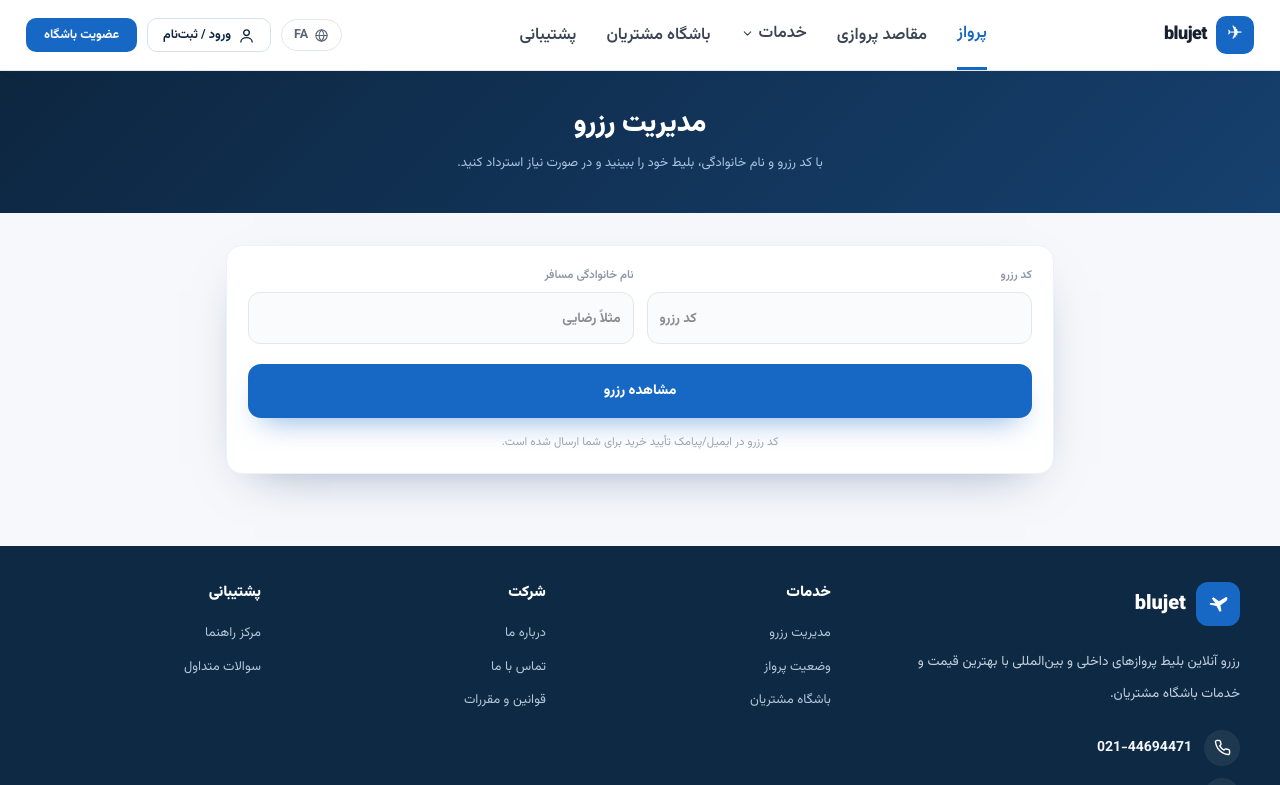
Scenario: ManageBookingPage › shows the real error message on a lookup failure (wrong PNR/last name)
Type "ZZZZZZ" into the field with test id "mb-pnr" at (839, 318), box x1=646 y1=292 x2=1032 y2=344
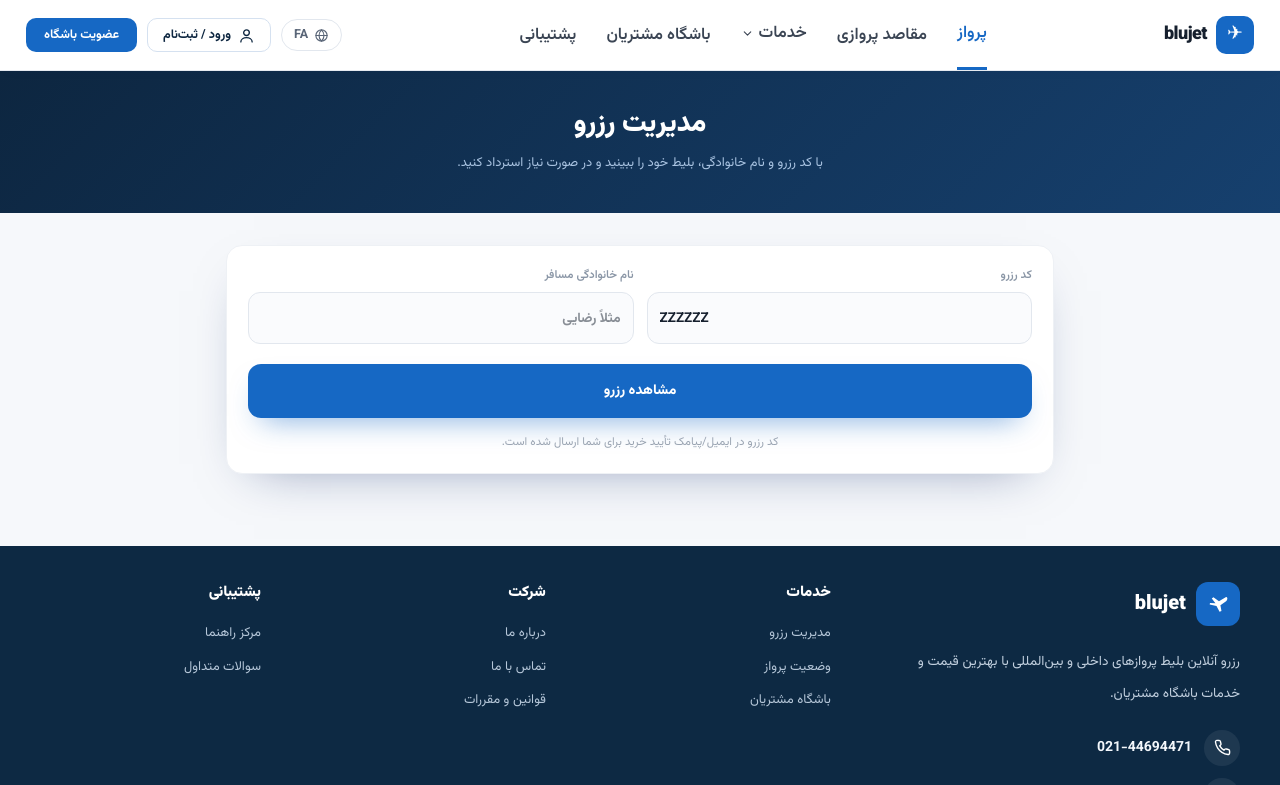
Type "ناشناس" into the field with test id "mb-lastname" at (441, 318), box x1=248 y1=292 x2=634 y2=344
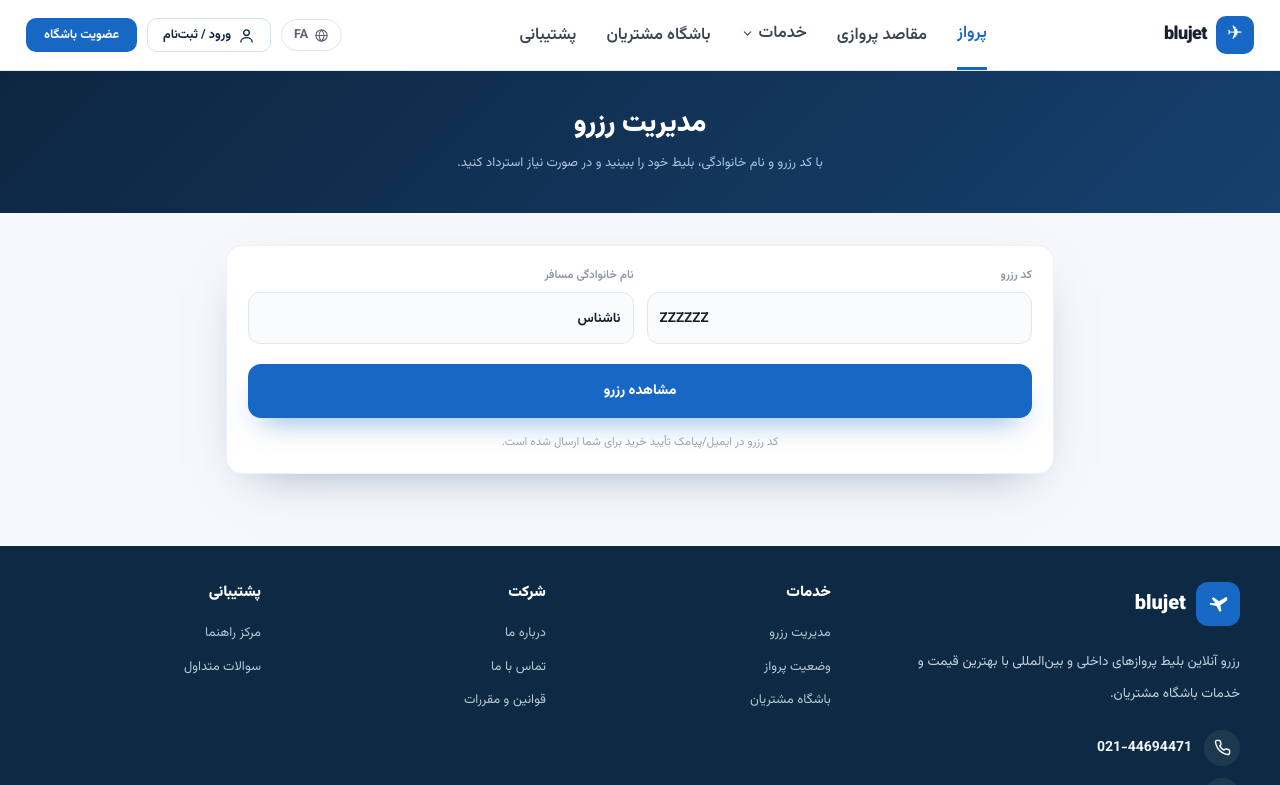
Click the button with test id "mb-lookup" at (640, 391), box x1=248 y1=364 x2=1032 y2=418
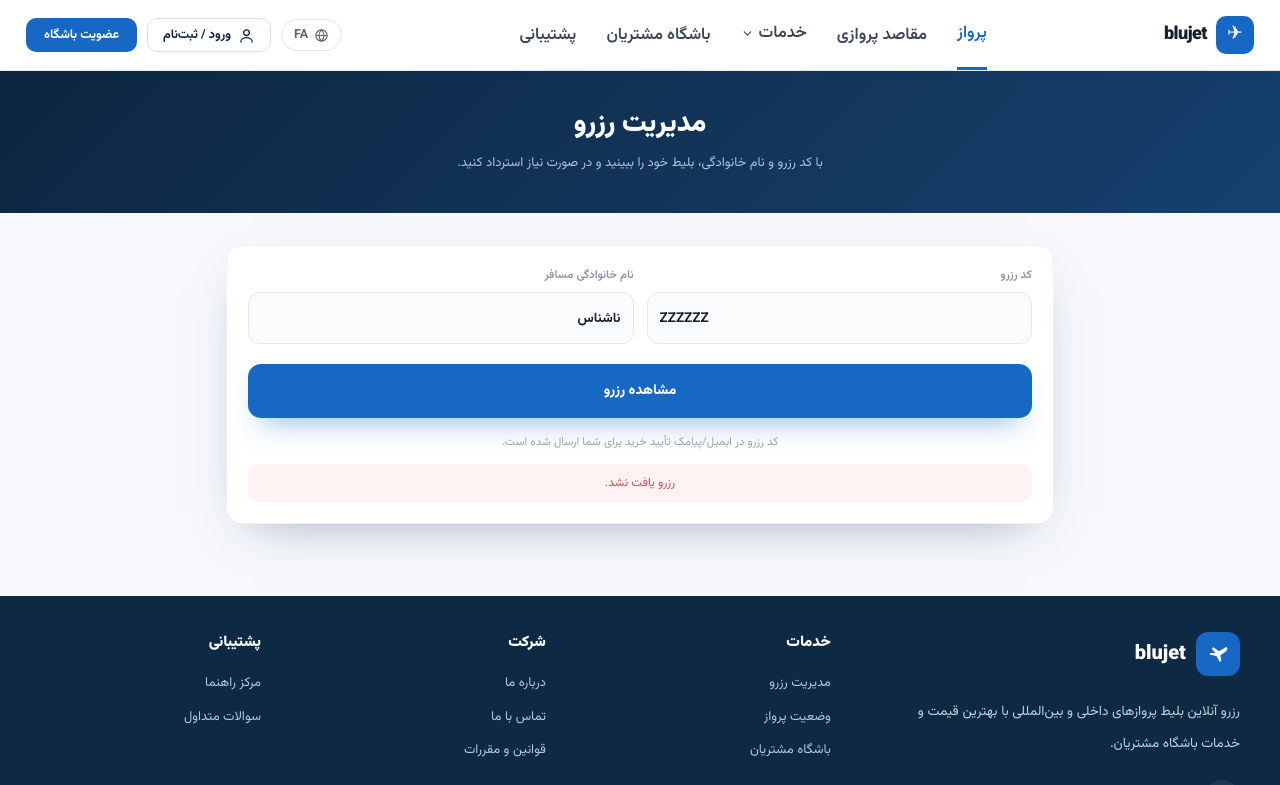
Expected: the text with test id "mb-lookup-error" reads "رزرو یافت نشد.", x1=605 y1=474 x2=675 y2=492
